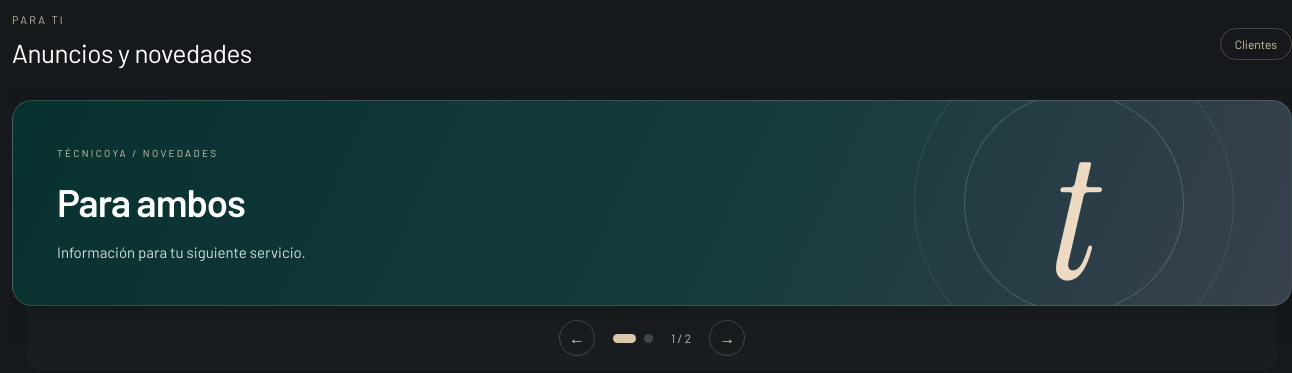
it: feed hides other audiences and drafts and lets users navigate
Expected: the heading "Para ambos" is shown, [57,178,245,224]
Click the button named "Anuncio siguiente": coordinates (727, 338) [709,320,745,356]
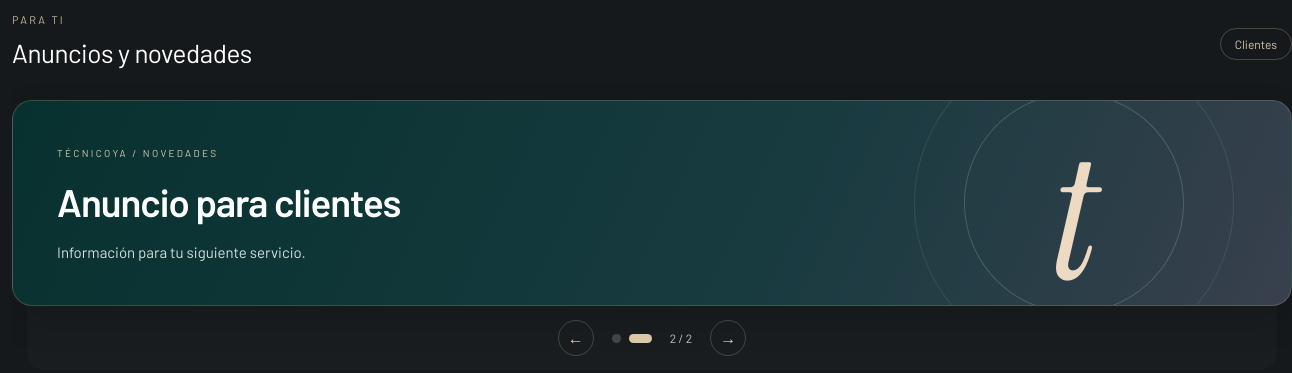
Expected: the heading "Anuncio para clientes" is shown, [57,178,400,224]
